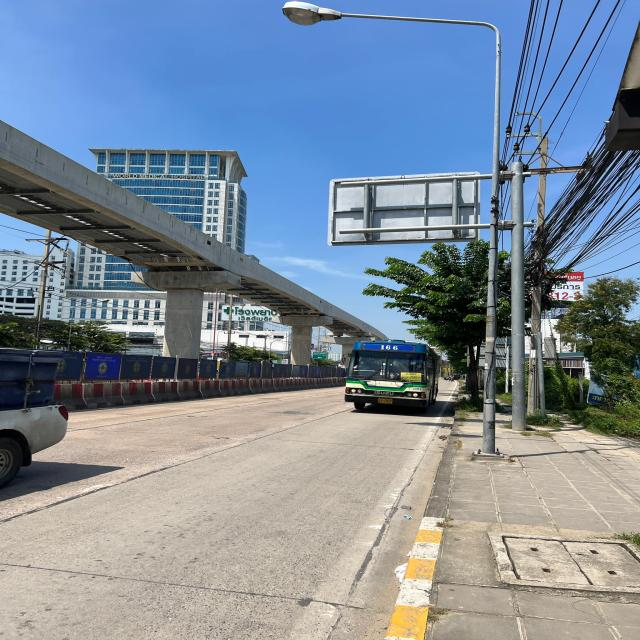BMTA-bus: (342, 338, 440, 414)
Bus-Line-Number: (380, 344, 400, 351)
Destination-Sign-Normal-Expressway: (401, 372, 422, 382)
